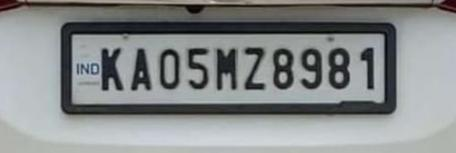0: (158, 46, 182, 92)
1: (359, 43, 380, 94)
5: (186, 43, 212, 91)
8: (326, 45, 353, 94), (271, 44, 296, 92)
9: (299, 42, 324, 91)
A: (127, 45, 153, 92)
K: (98, 46, 126, 93)
M: (214, 45, 238, 93)
Z: (241, 44, 268, 94)
